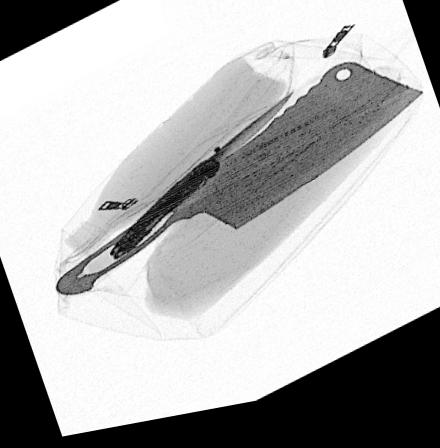Knife: (55, 73, 424, 298), (108, 98, 295, 265)
